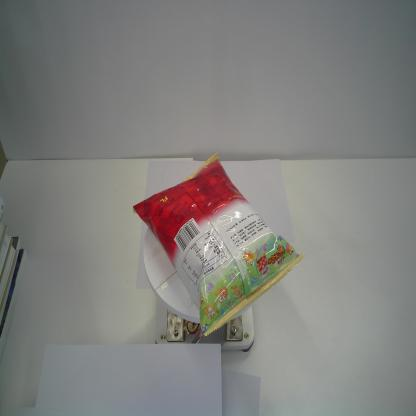Puffed Food: (131, 150, 304, 342)
